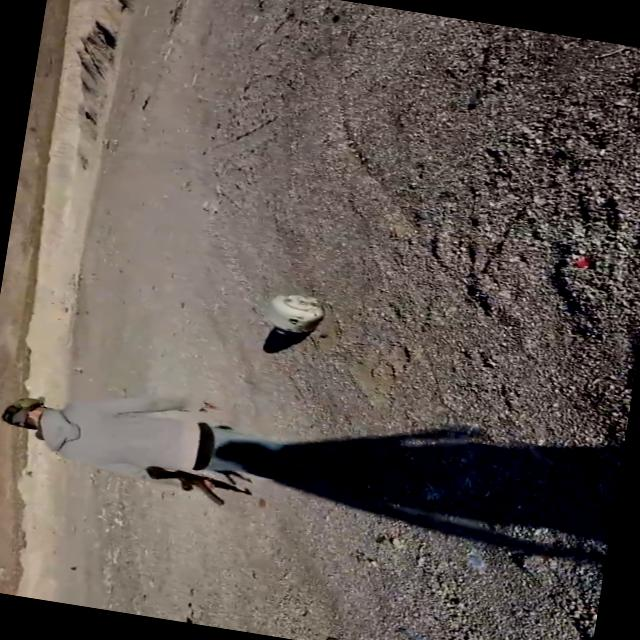long weapon: (126, 456, 264, 513)
